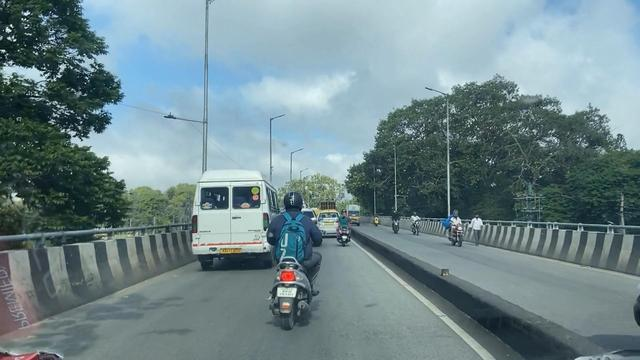HMV: (190, 165, 275, 273)
LMV: (267, 194, 319, 329), (338, 208, 349, 244)
